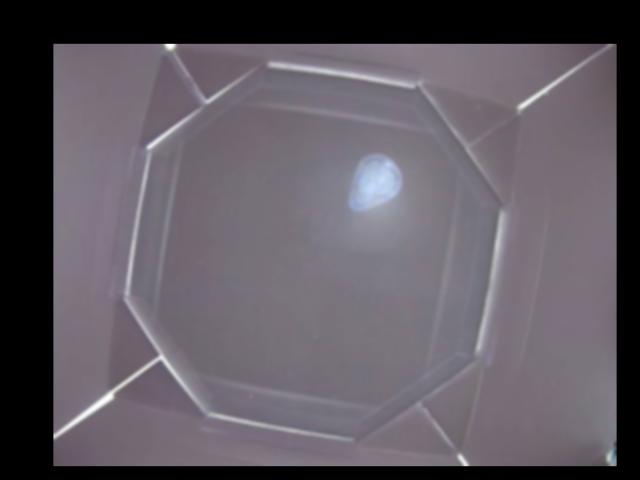Pebble: (348, 152, 405, 212)
